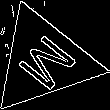M_SE: (8, 27, 79, 94)
